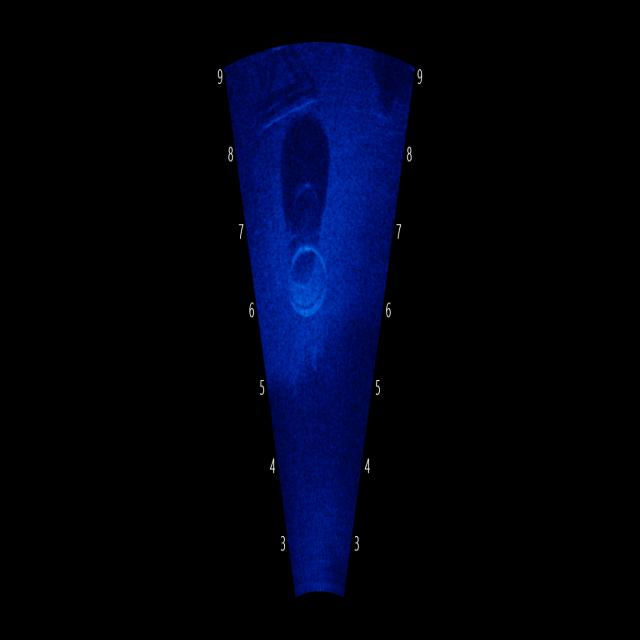circle: (279, 210, 339, 334)
